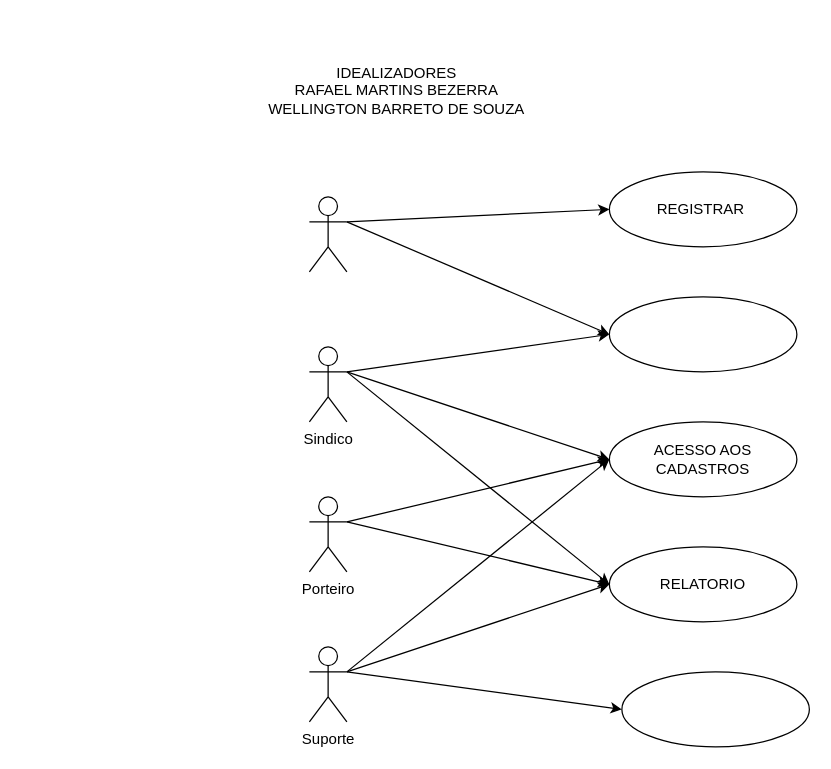
This 831x769 diagram has some shape labels left out. The box of each missing label's shape, as (x1, y1, x2, y2) in pixels:
ACESSO AO BANCO DE DADOS: (621, 671, 809, 747)
ACESSO AO CONDOMINIO: (608, 296, 797, 372)
Condomino: (308, 196, 347, 272)
